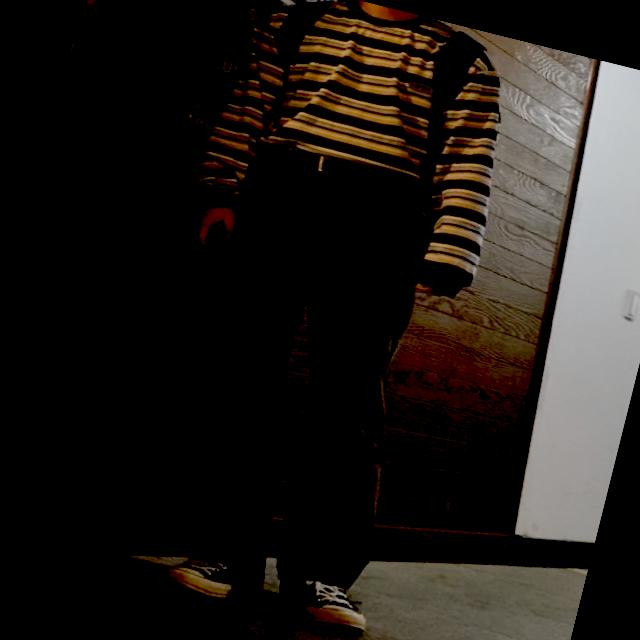denimpants: (140, 132, 460, 606)
longsleeve: (175, 0, 532, 296)
